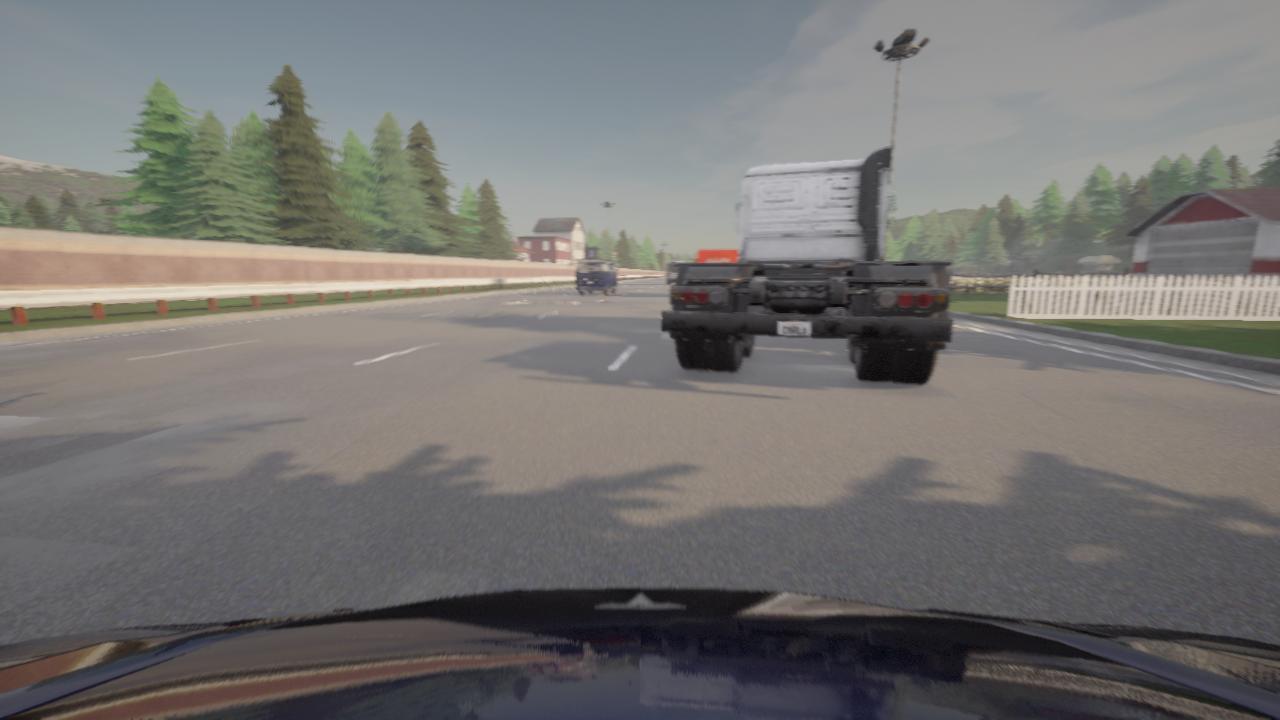cyclist: (0, 588, 1279, 719), (662, 148, 952, 384), (576, 260, 617, 294), (694, 249, 738, 262), (667, 264, 678, 280), (694, 260, 695, 261)
